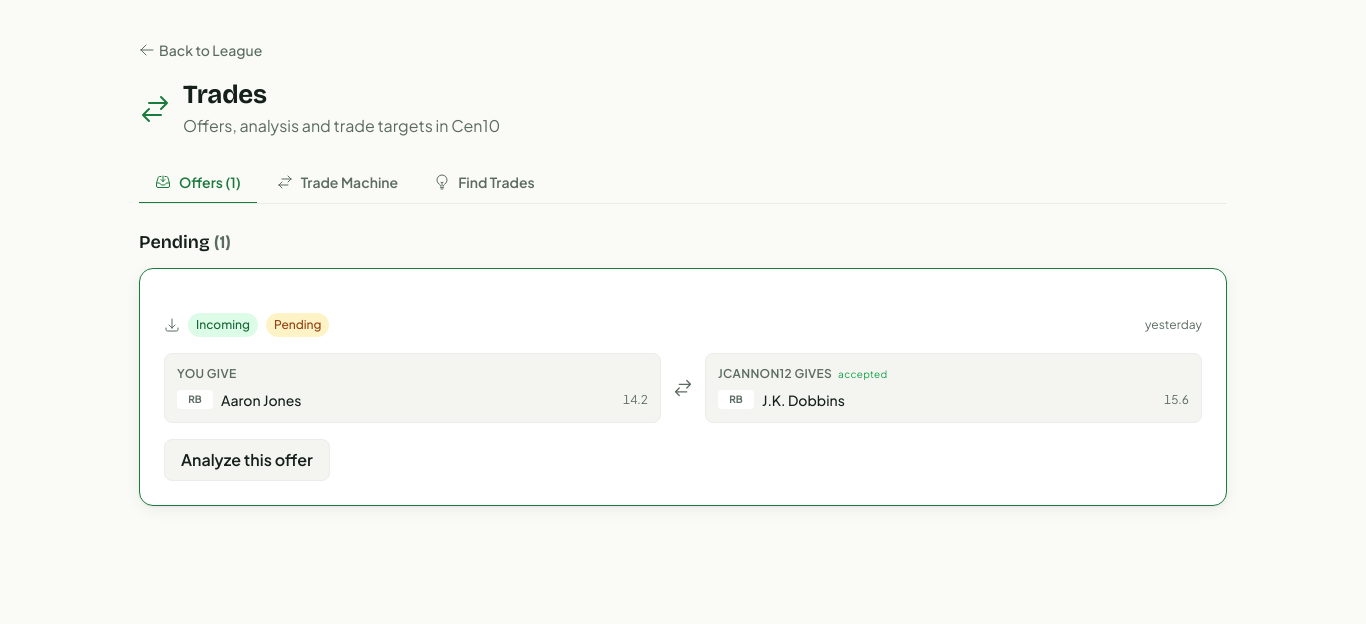
Trade machine › analyzing a pending offer loads it into the machine and scores it
The image size is (1366, 624).
Click the button "Analyze this offer" at (247,460), box [164, 439, 330, 481]
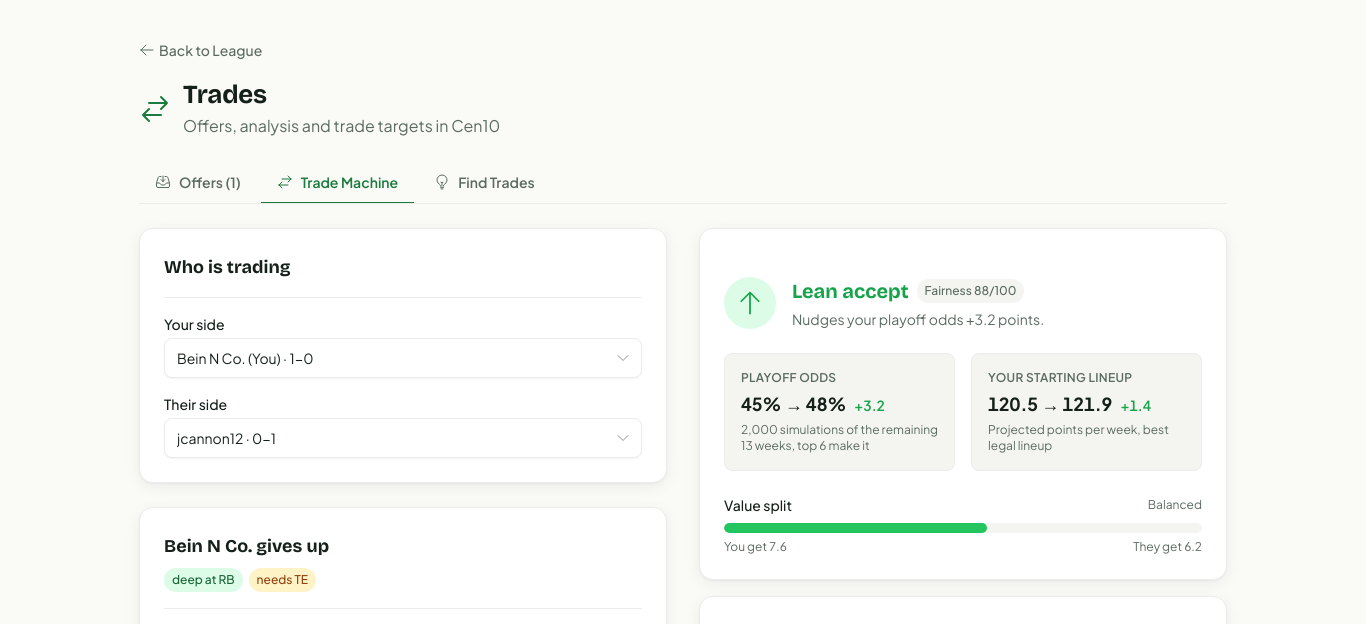
Now the heading "Lean accept" is shown, box [792, 277, 909, 305]
